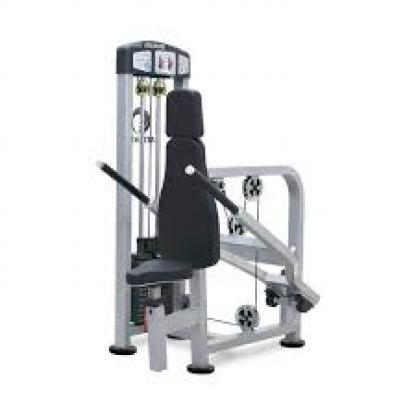seated dip machine: (94, 39, 323, 378)
